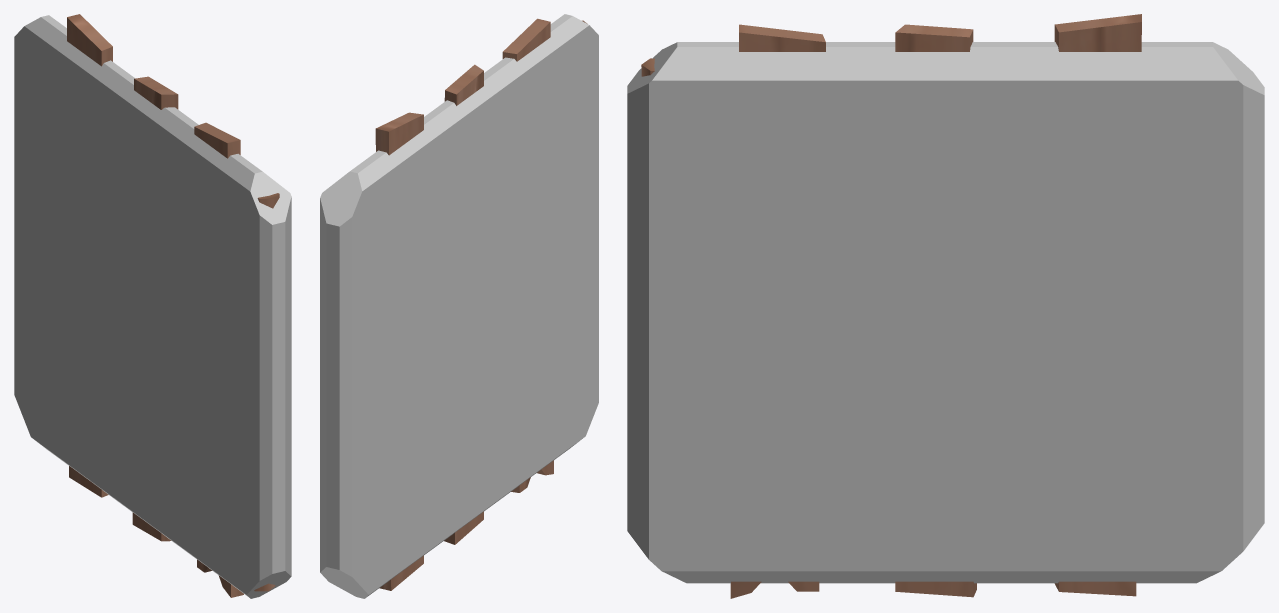
The model's file is SM_wooden_boards_02.fbx.
3 renders of one model, left to right at view 1: azimuth 30°, elevation 25°; view 2: azimuth 150°, elevation 25°; view 3: azimuth 270°, elevation 25°, orthographic. The views are drawn at different scales.
Parts seen in each view (by area): view 1: SM_wooden_boards_02_ConvexHulls, SM_wooden_boards_02; view 2: SM_wooden_boards_02_ConvexHulls, SM_wooden_boards_02; view 3: SM_wooden_boards_02_ConvexHulls, SM_wooden_boards_02.
Boxes of the visible parts, left/top/right/bottom form: SM_wooden_boards_02_ConvexHulls: left=14, top=15, right=291, bottom=598; SM_wooden_boards_02: left=67, top=14, right=279, bottom=597; SM_wooden_boards_02_ConvexHulls: left=320, top=14, right=598, bottom=598; SM_wooden_boards_02: left=375, top=18, right=587, bottom=590; SM_wooden_boards_02_ConvexHulls: left=627, top=42, right=1264, bottom=583; SM_wooden_boards_02: left=641, top=14, right=1141, bottom=598.
Size of the model in its own units: 15.35 by 188 by 188.
